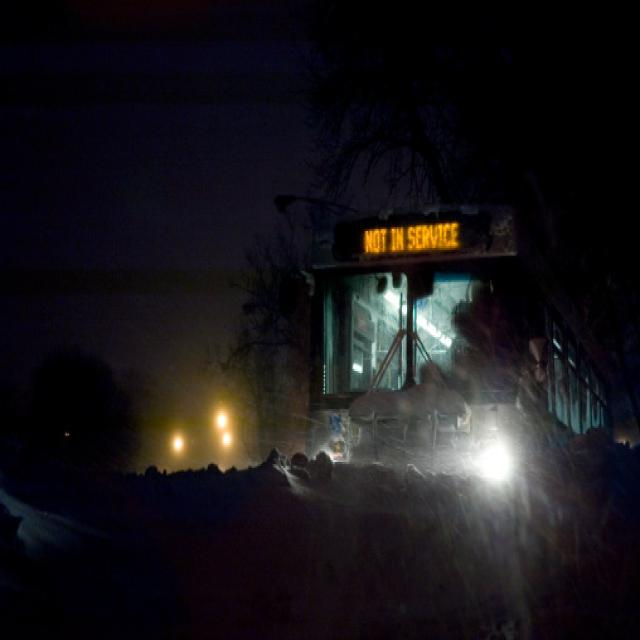Bus: (270, 180, 628, 535)
